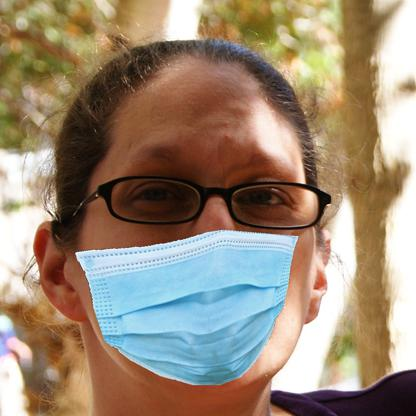mask: (69, 226, 300, 388)
